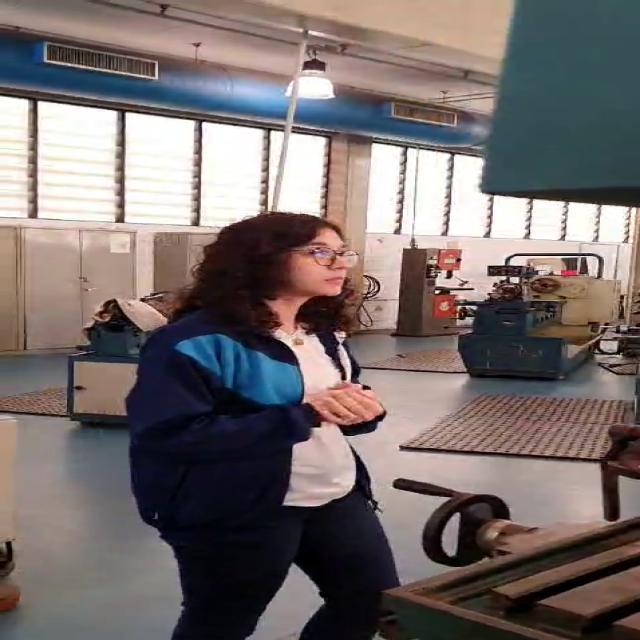sem_oculos: (274, 241, 370, 270)
